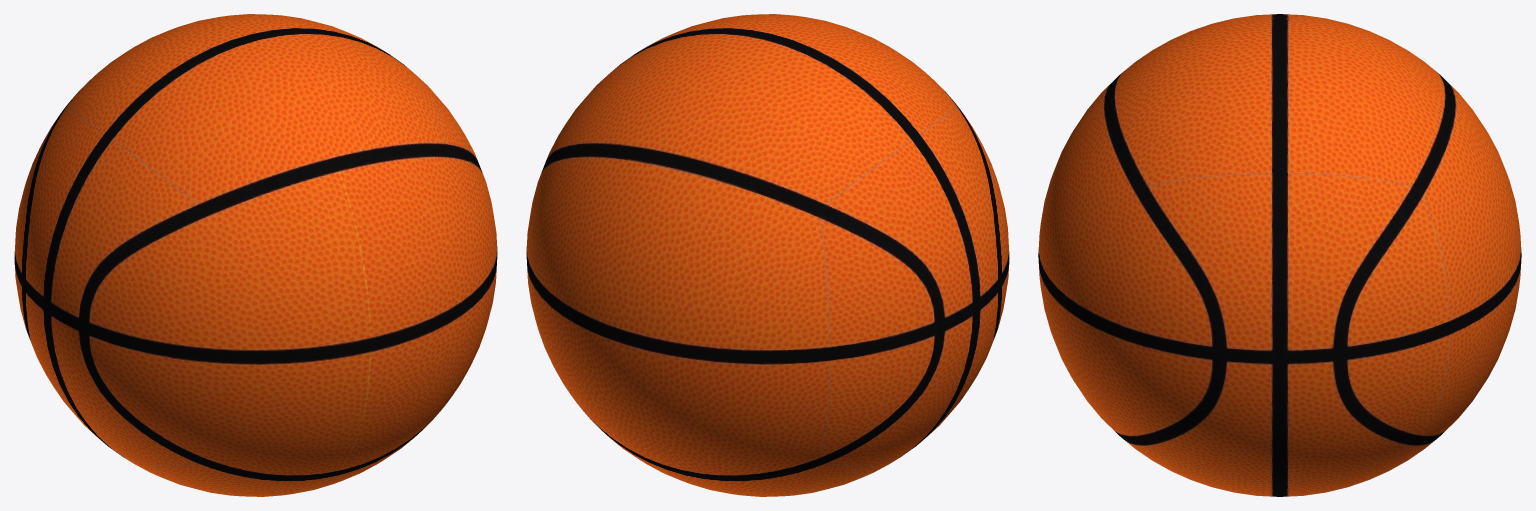
File: masketball_BallAnimRblock.glb
The picture shows the model from 3 angles, left to right: view 1: azimuth 30°, elevation 25°; view 2: azimuth 150°, elevation 25°; view 3: azimuth 270°, elevation 25°; orthographic projection.
Visible parts, largest first — view 1: ball; view 2: ball; view 3: ball.
Boxes of the visible parts, x1,y1,x2,y2 form: ball: (14,14,497,496); ball: (526,14,1009,496); ball: (1038,14,1521,496).
Bounding box in the file's own units: 12.16 × 12.16 × 12.16.
Materials: 1 (1 with a texture image).
